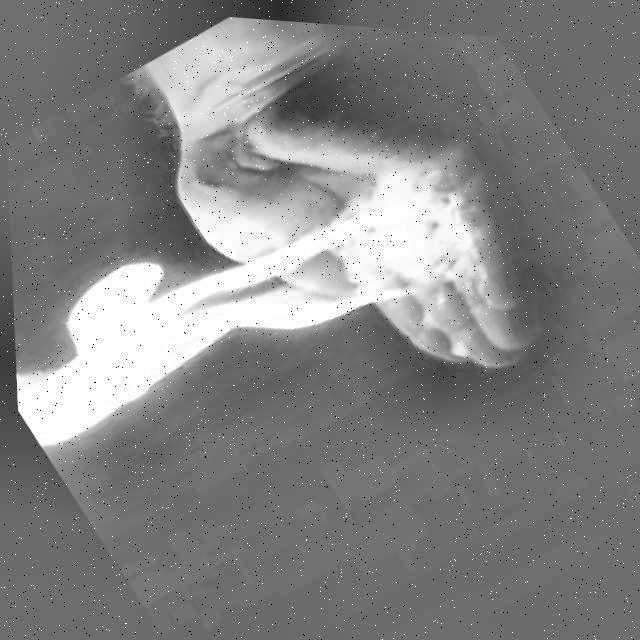Fire: (3, 75, 497, 525)
